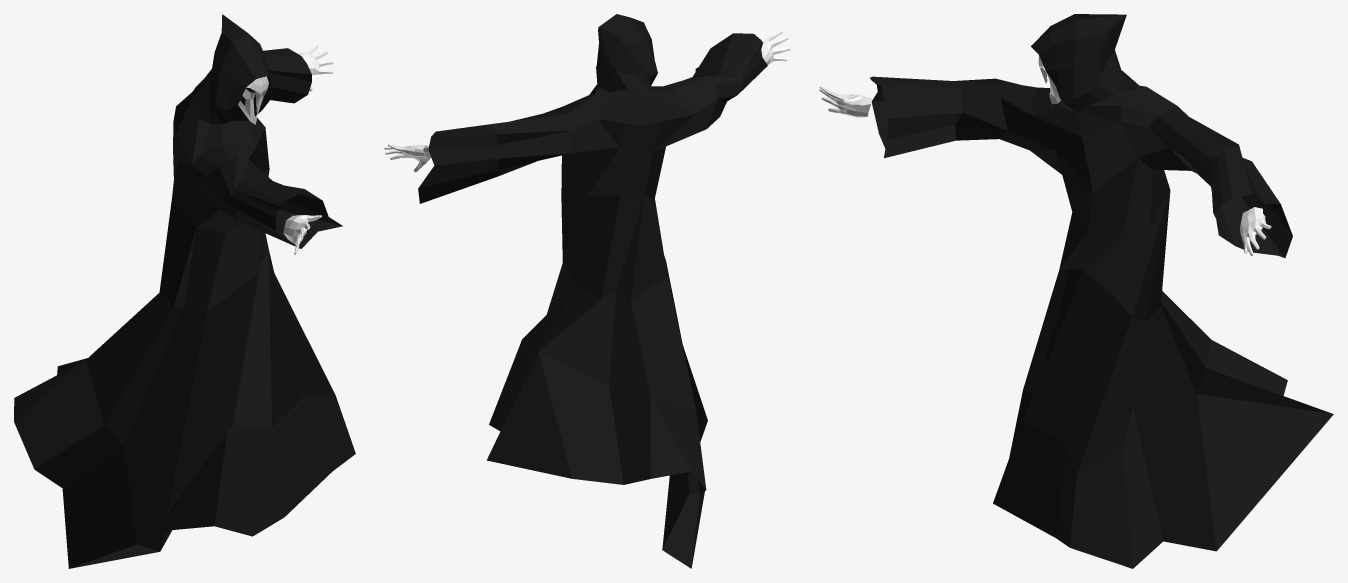
Rendered from ReaperAttack(25).obj.
The picture shows the model from 3 angles, left to right: view 1: azimuth 30°, elevation 25°; view 2: azimuth 150°, elevation 25°; view 3: azimuth 270°, elevation 25°; orthographic projection. The views are drawn at different scales.
Parts seen in each view (by area): view 1: Plane003; view 2: Plane003; view 3: Plane003.
Boxes of the visible parts, x1,y1,x2,y2 form: Plane003: (14, 14, 355, 568); Plane003: (384, 14, 790, 568); Plane003: (819, 14, 1333, 568).
Size of the model in its own units: 148 by 235 by 189.
